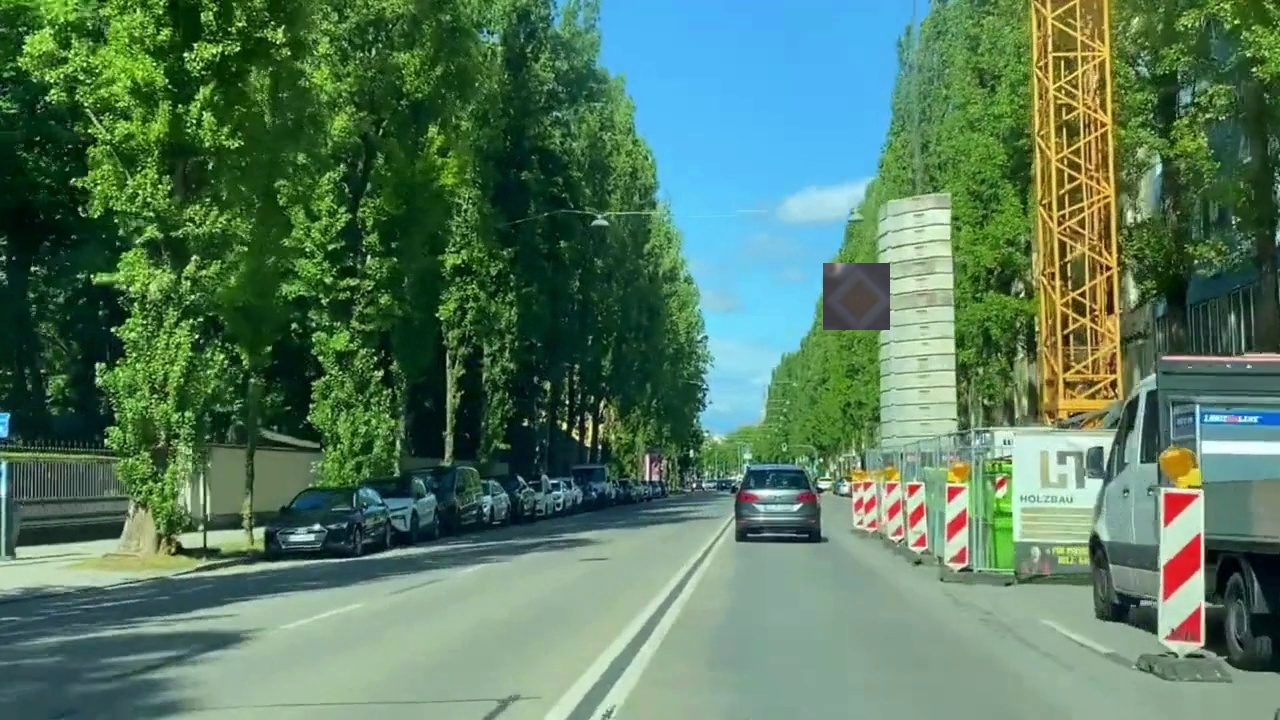Priority road: (823, 263, 890, 330)
